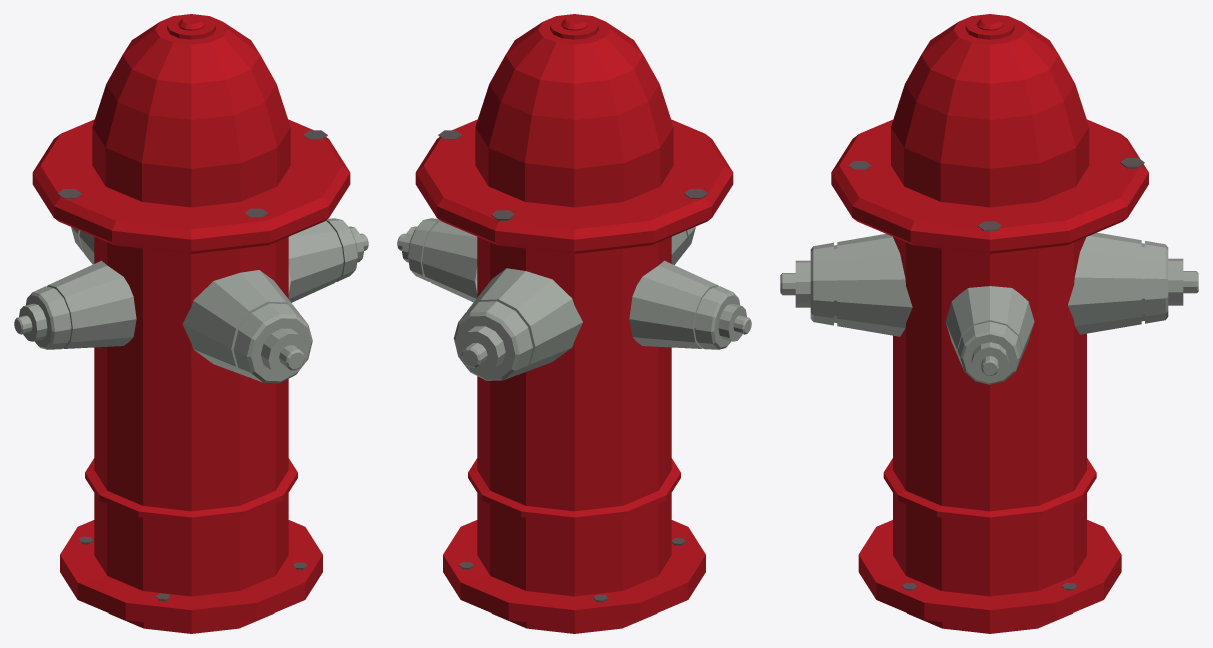
Rendered from itfaiyeMusluk.fbx.
3 views of the same model, side by side, from view 1: azimuth 30°, elevation 25°; view 2: azimuth 150°, elevation 25°; view 3: azimuth 270°, elevation 25° (orthographic).
Visible parts, largest first — view 1: Circle; view 2: Circle; view 3: Circle.
Boxes of the visible parts, x1,y1,x2,y2 form: Circle: (14,14,368,633); Circle: (397,14,751,633); Circle: (780,14,1198,633).
Bounding box in the file's own units: 420 × 663 × 438.
